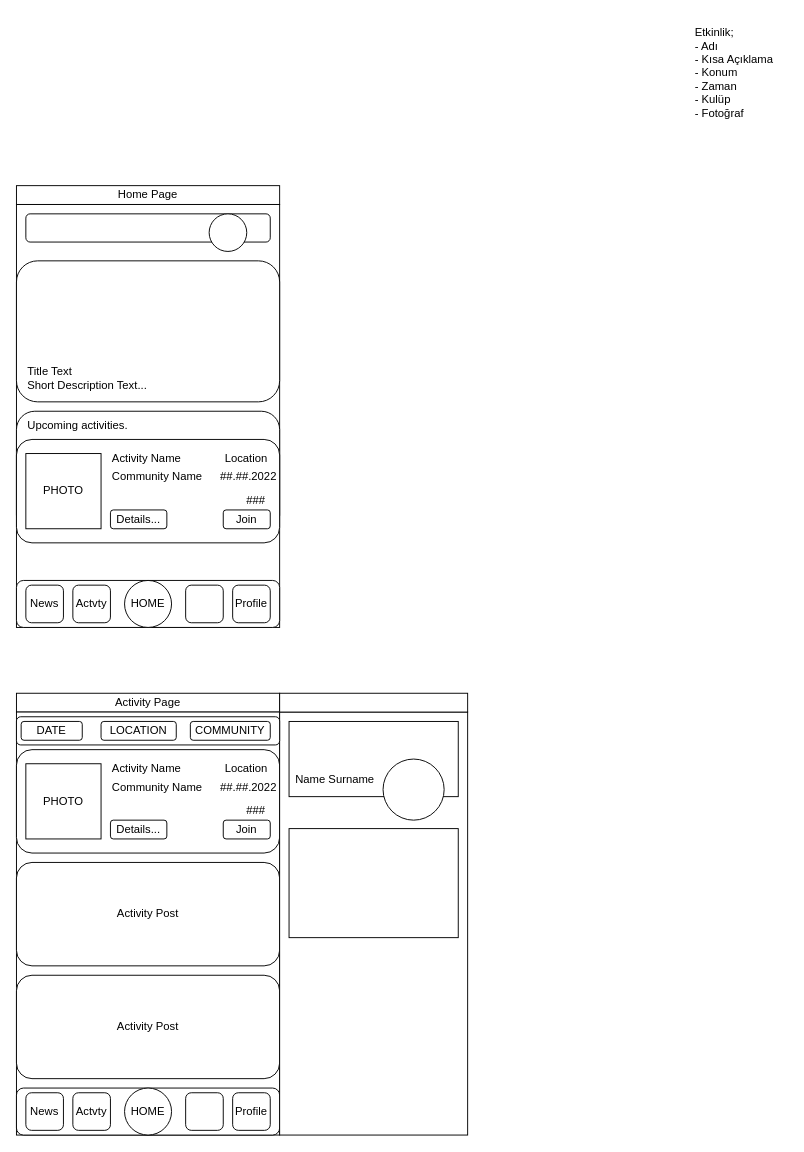
The diagram is 804 pixels wide and 1152 high, and some of its shapes have lost their labels. Each missing label, with the box of its shape:
- PROFILE SETTINGS - MY ACTIVITY - LOGOUT - FEEDBACK: (288, 828, 458, 938)
Navigation Menu: (279, 692, 468, 712)
PP: (382, 758, 444, 820)
SLIDER PHOTO: (16, 260, 280, 402)
Welcome User / Please Login: (25, 213, 270, 242)
